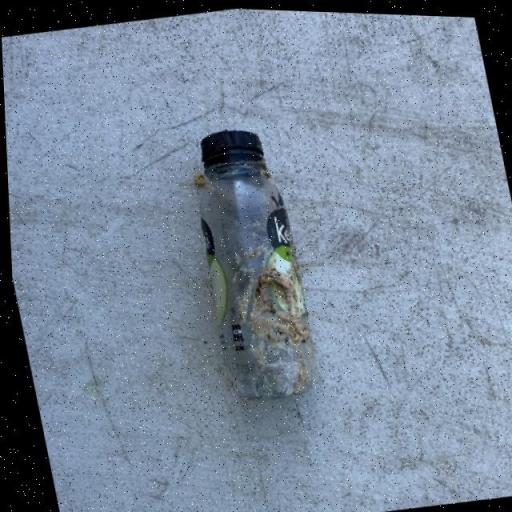plastic: (176, 118, 321, 404)
